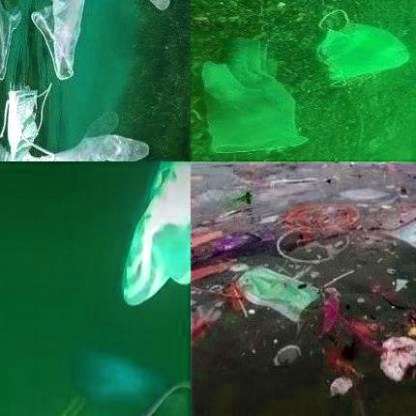Mask: (311, 9, 413, 86), (234, 262, 324, 322), (1, 75, 60, 160)
glove: (61, 161, 190, 304), (192, 35, 308, 154), (11, 0, 178, 82), (27, 115, 168, 160)
